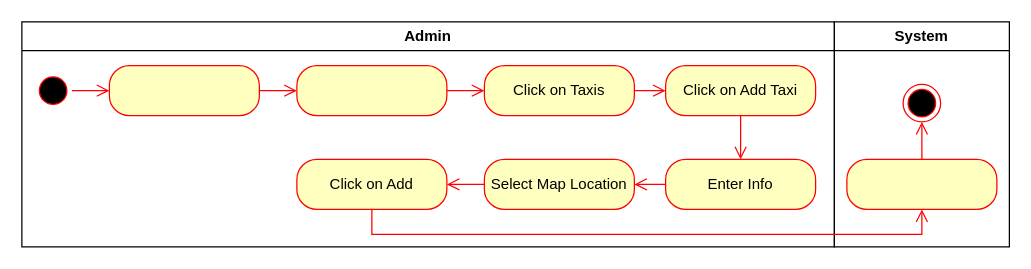
This 1031x269 diagram has some shape labels left out. Each missing label, with the centre of its shape:
"Add Taxi to Database" belongs at [921,183].
"Login" belongs at [183,90].
"View Dashboard" belongs at [371,90].
